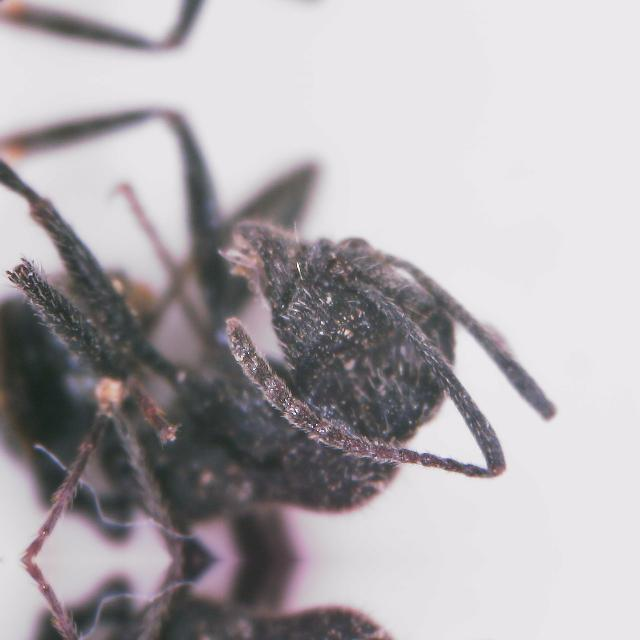Apheanogaster: (1, 102, 591, 560)
